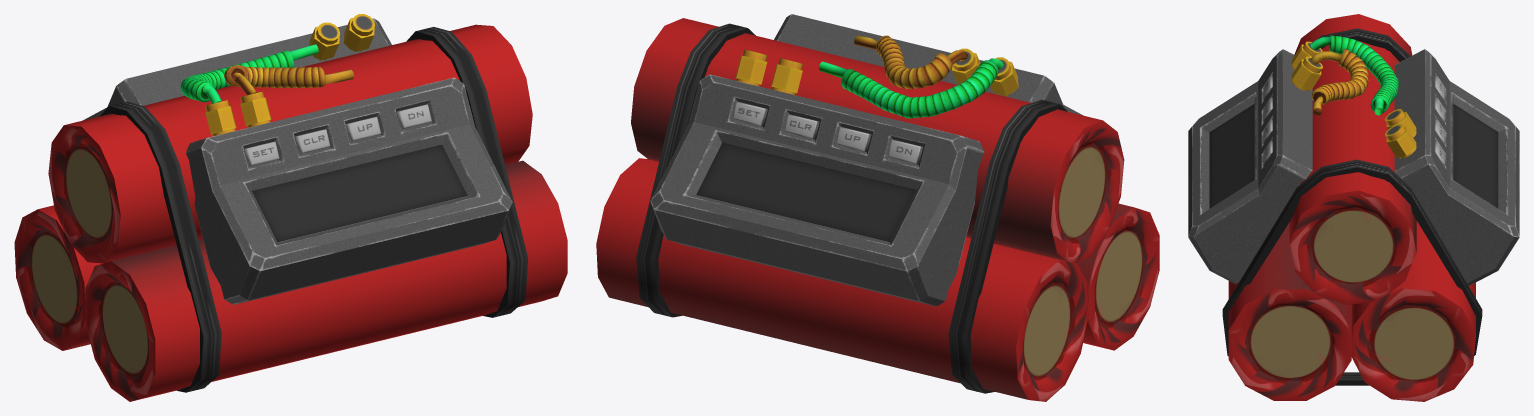
Rendered from bomb_small.FBX.
The picture shows the model from 3 angles, left to right: view 1: azimuth 30°, elevation 25°; view 2: azimuth 150°, elevation 25°; view 3: azimuth 270°, elevation 25°; orthographic projection. The views are drawn at different scales.
Visible parts, largest first — view 1: bomb_small; view 2: bomb_small; view 3: bomb_small.
Part boxes in pixels (x1,y1,x2,y2): bomb_small: [14, 14, 567, 401]; bomb_small: [596, 14, 1159, 401]; bomb_small: [1188, 14, 1519, 401].
Bounding box in the file's own units: 46.72 × 29.61 × 36.9.
